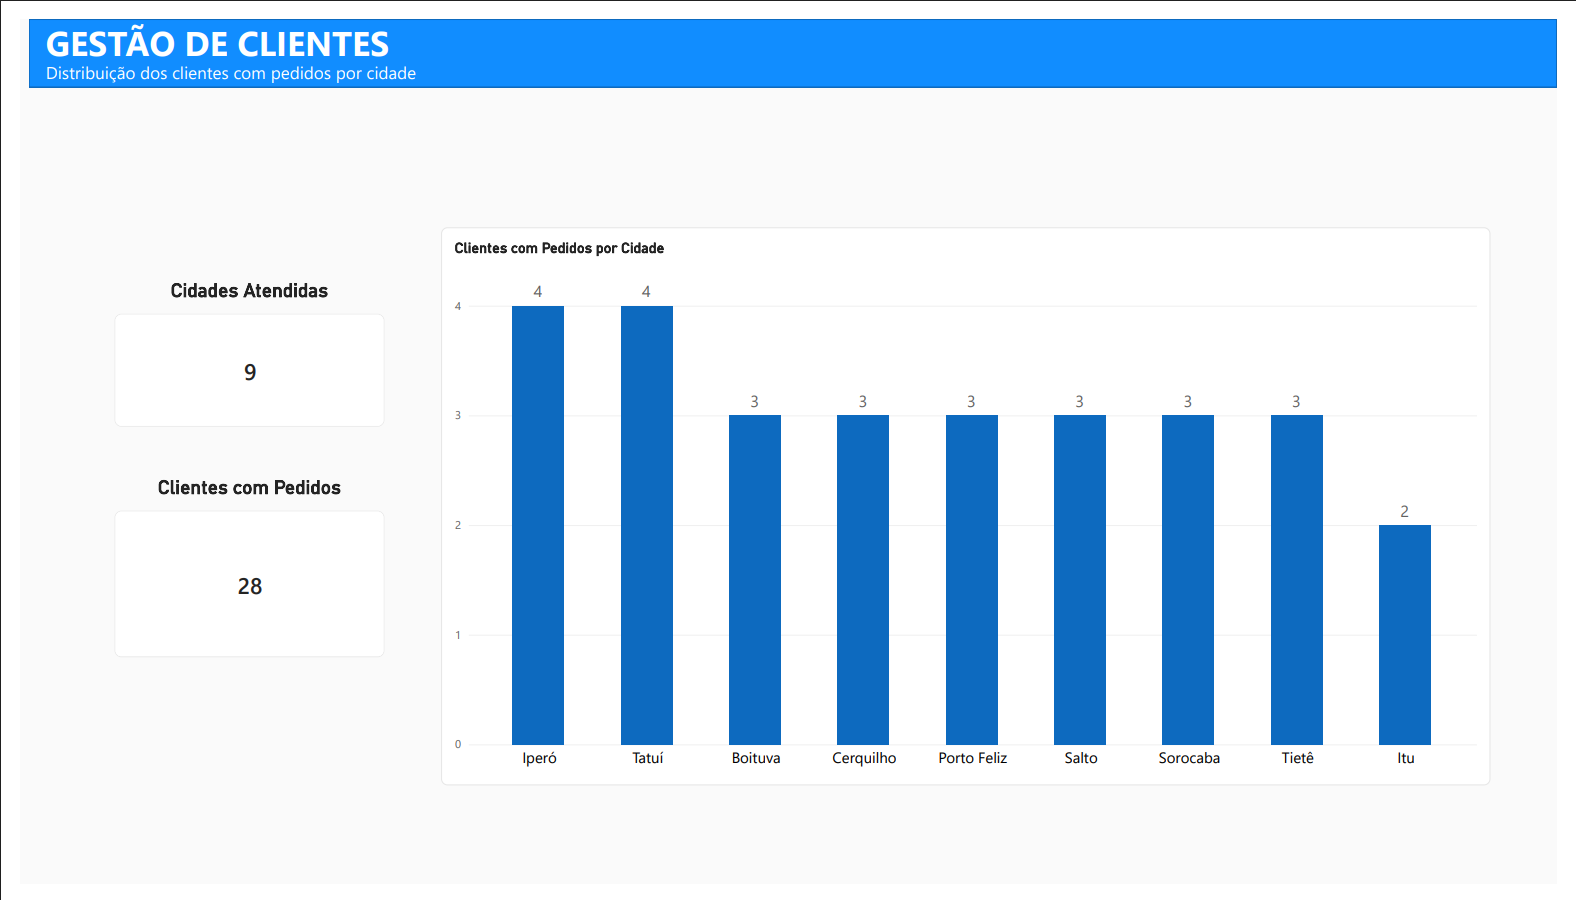

What the dashboard file says about the page in this screenshot:
{"tool":"powerbi","page":{"name":"Clientes","canvas":[1920,1080],"ordinal":2},"visuals":[{"type":"cardVisual","title":"Clientes com Pedidos","fields":{"Data":["Count(Pedidos.ID_Cliente)"]},"box":[117.9,571.5,337.1,225.3],"z":0},{"type":"columnChart","title":"Clientes com Pedidos por Cidade","fields":{"Category":["Pedidos.Cidade"],"Y":["Count(Pedidos.ID_Cliente)"]},"box":[526.1,260,1310.7,696.9],"z":1000},{"type":"shape","box":[10.6,0,1909.4,84.7],"z":1001},{"type":"textbox","box":[31.9,0,989.6,69.2],"z":1002},{"type":"textbox","box":[31.9,51.9,603.8,33.3],"z":1003},{"type":"cardVisual","title":"Cidades Atendidas","fields":{"Data":["Count(Pedidos.Cidade)"]},"box":[117.9,325,337.1,184.4],"z":1004}]}

Visuals, with their boxes in screenshot pixels (x1, y1, x2, y2), scaled from the page's 1920x1080 canvas onto the 1576x900 screenshot:
"Clientes com Pedidos" cardVisual: rect(97, 476, 373, 664)
"Clientes com Pedidos por Cidade" columnChart: rect(432, 217, 1508, 797)
shape: rect(9, 0, 1575, 71)
textbox: rect(26, 0, 838, 58)
textbox: rect(26, 43, 522, 71)
"Cidades Atendidas" cardVisual: rect(97, 271, 373, 424)
